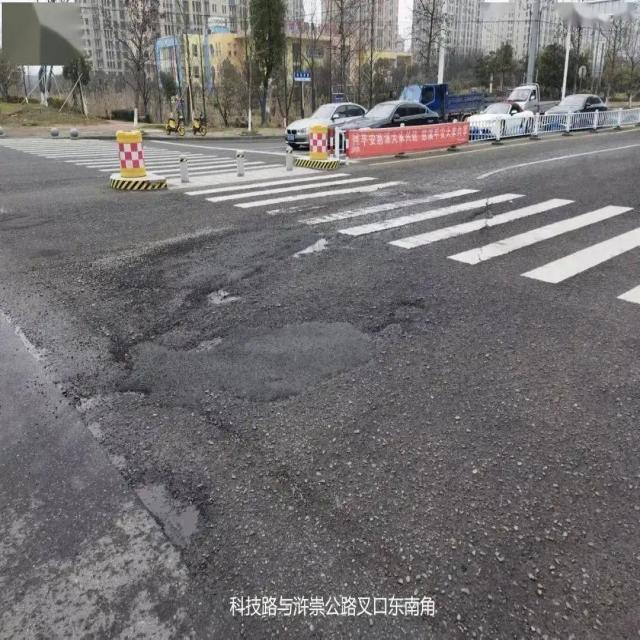Pothole: (108, 299, 426, 406), (122, 472, 210, 560), (292, 232, 338, 264)
